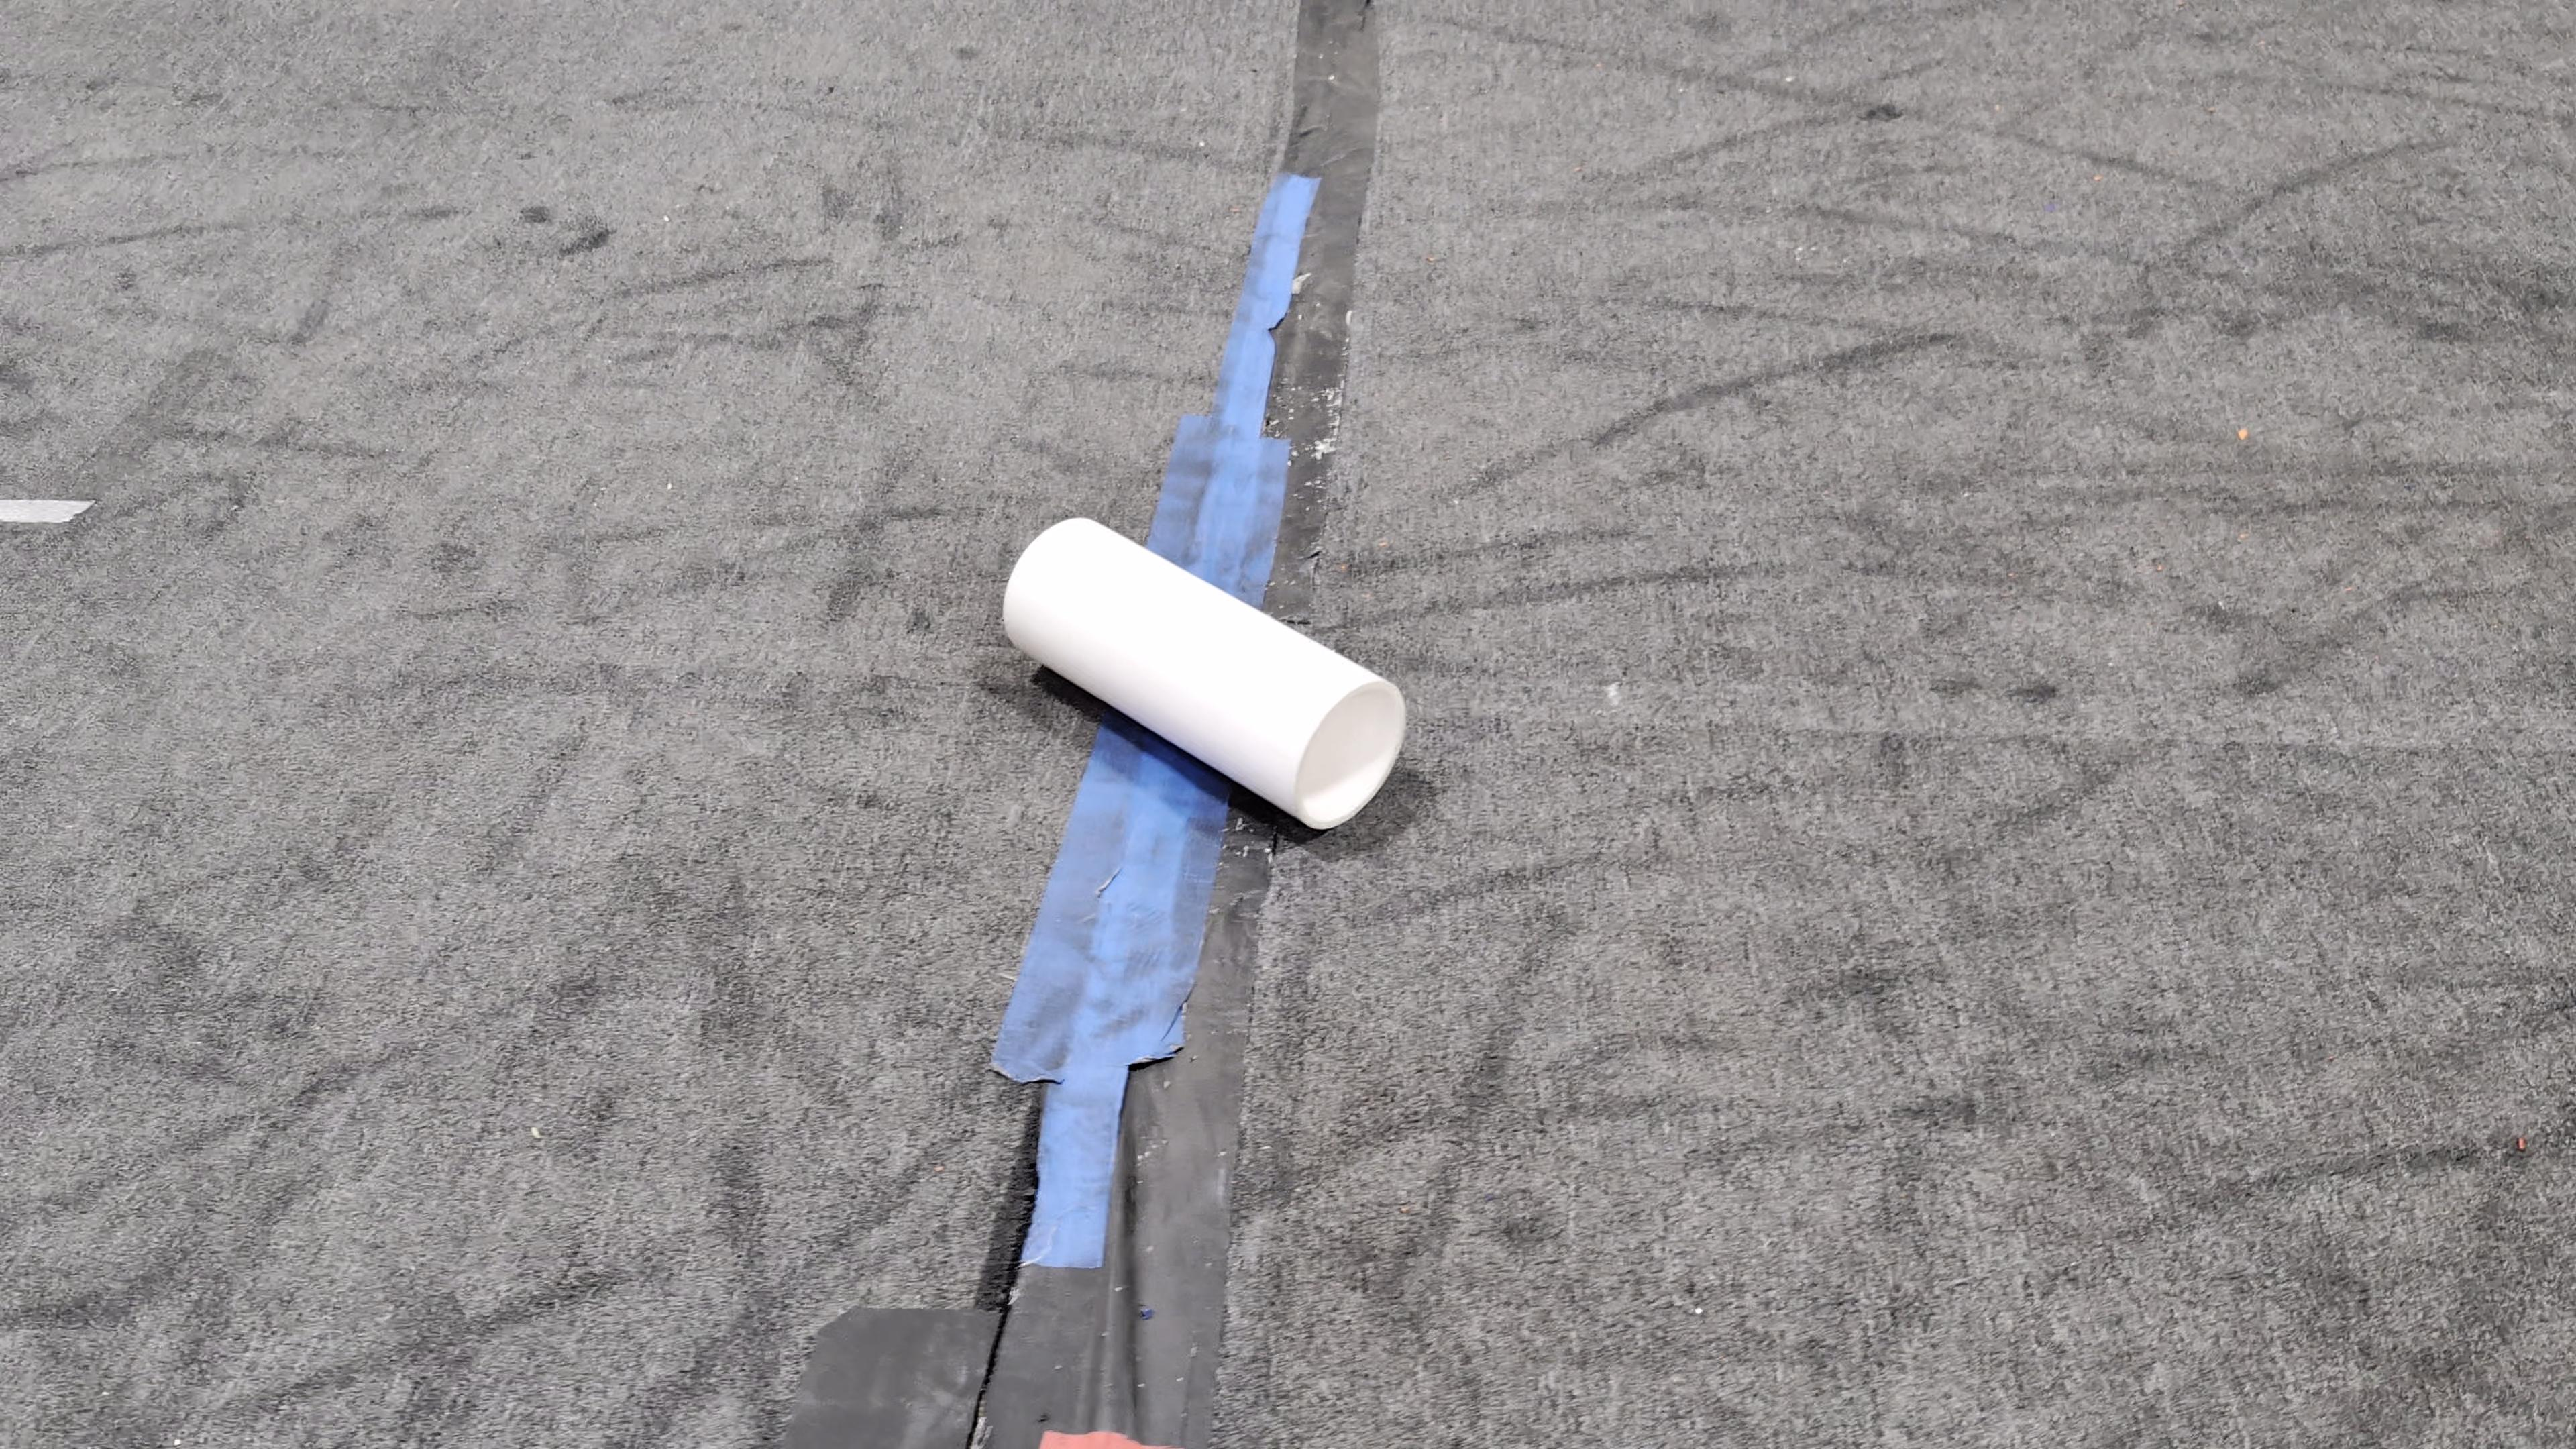coral: (1000, 511, 1408, 830)
